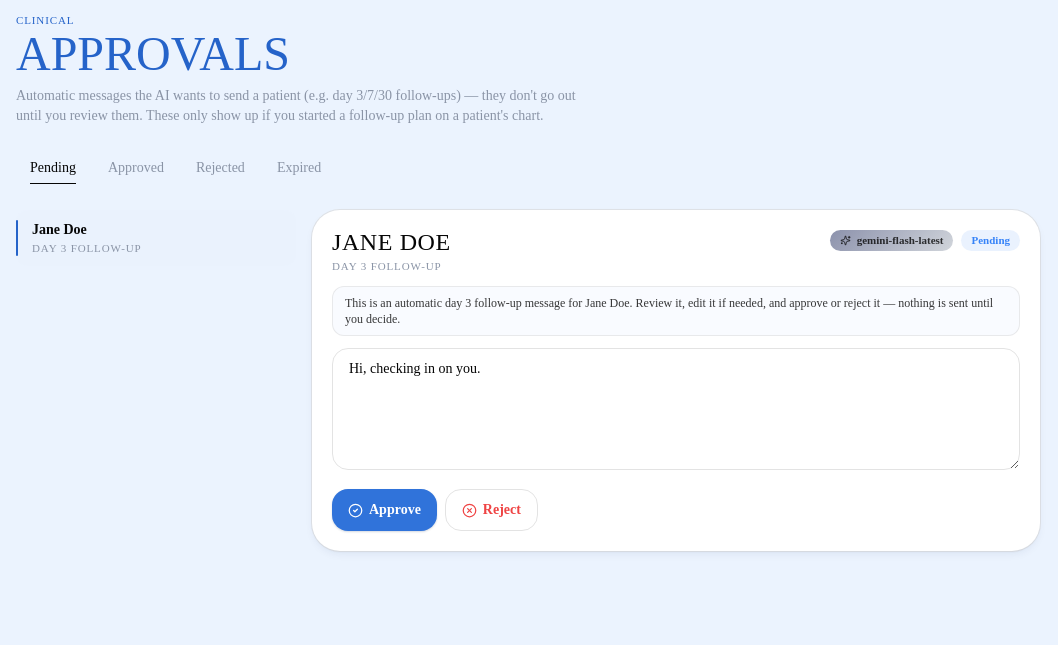
Test: ApprovalsPage › requires a reason before confirming a reject
Click the button "Reject": (491, 510) [445,489,538,531]
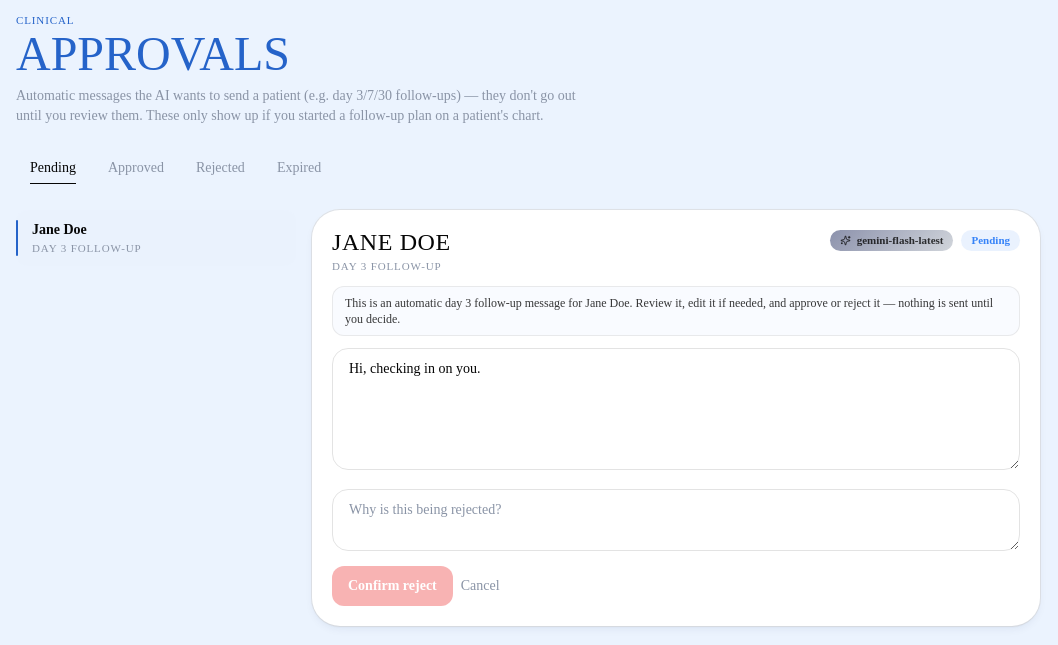
expect the button "Confirm reject" is disabled: met, box [332,566,453,606]
